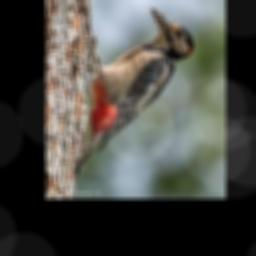Woodpecker: (74, 8, 194, 178)
